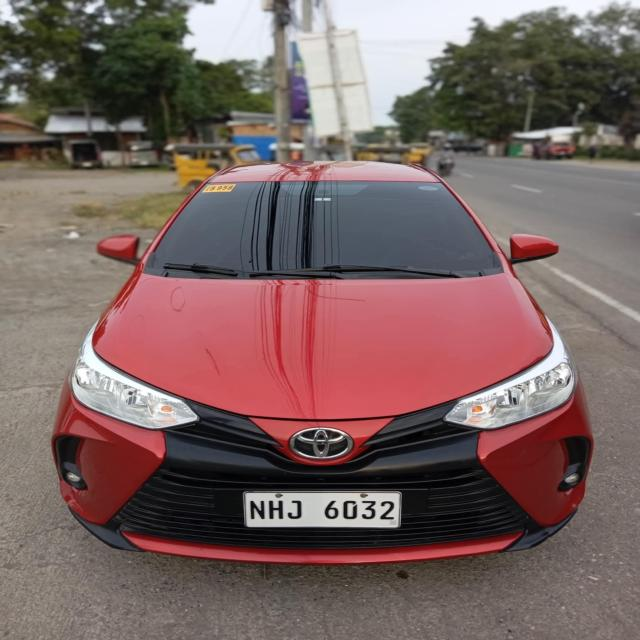number: (244, 492, 401, 529)
